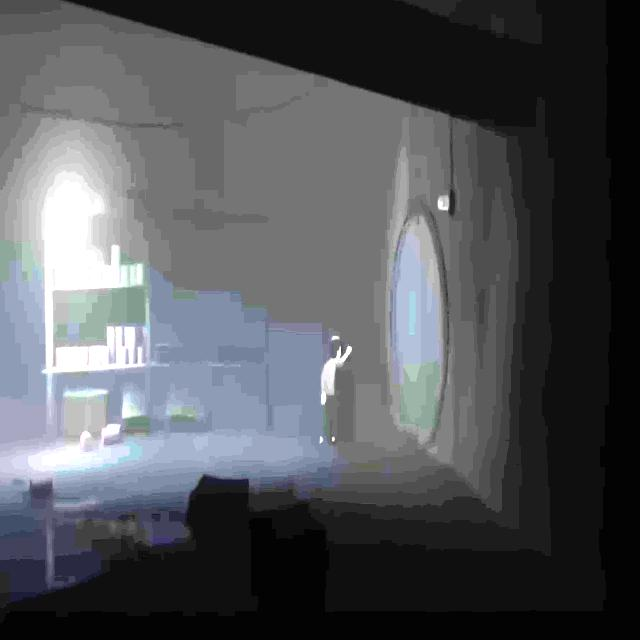boy: (316, 338, 351, 450)
